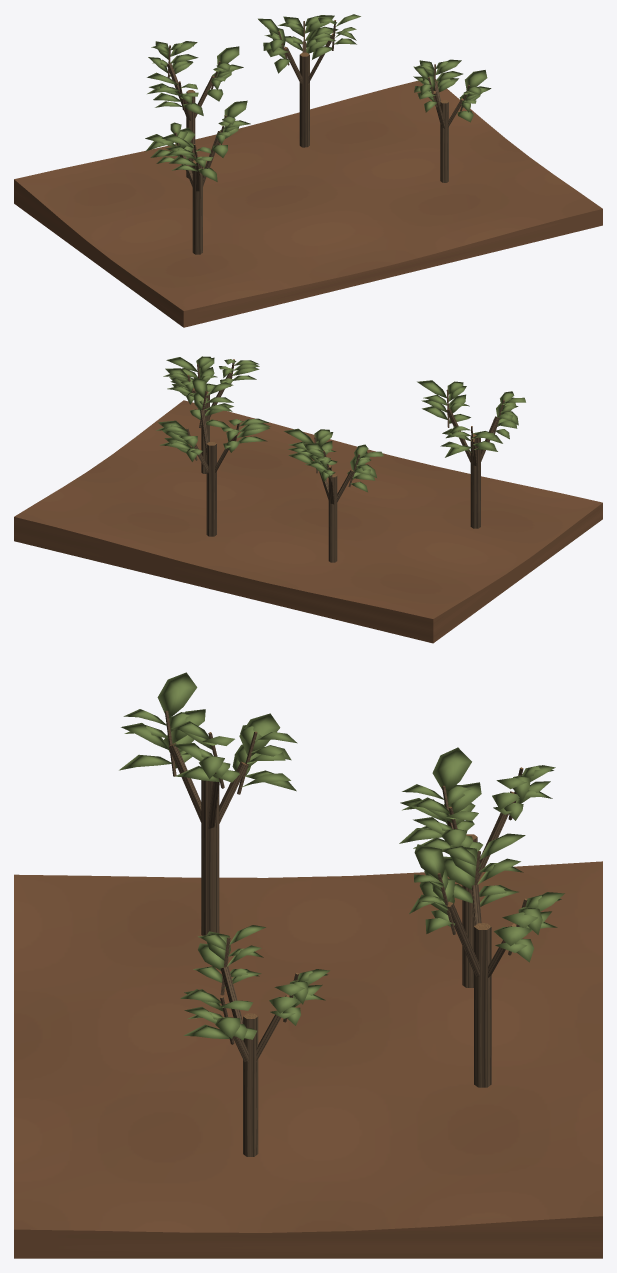
The model's file is phnom-penh.glb.
3 views of the same model, one above another, from view 1: azimuth 30°, elevation 25°; view 2: azimuth 150°, elevation 25°; view 3: azimuth 270°, elevation 25° (orthographic). The views are drawn at different scales.
Visible parts, largest first — view 1: phnom-penh; view 2: phnom-penh; view 3: phnom-penh.
Part boxes in pixels (x1,y1,x2,y2): phnom-penh: [14, 14, 602, 327]; phnom-penh: [14, 356, 602, 643]; phnom-penh: [14, 672, 602, 1258].
Bounding box in the file's own units: 7.24 × 2.6 × 5.07.
Materials: 1 (1 with a texture image).
